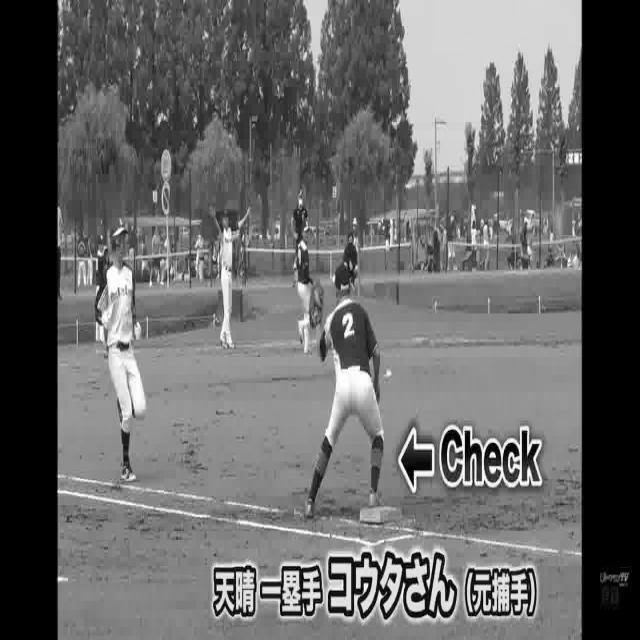base: (359, 506, 400, 526)
baseball_glove: (307, 280, 325, 332)
shoe: (118, 463, 140, 487), (369, 488, 387, 507), (303, 490, 315, 516)
